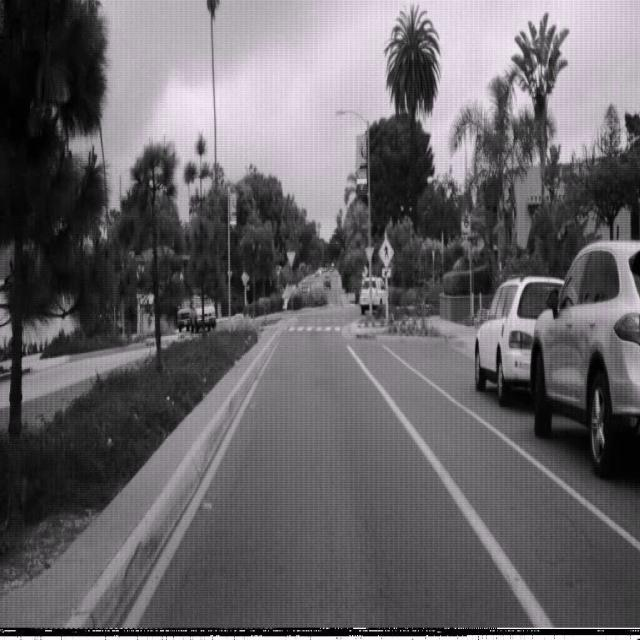pedestrianCrossing: (378, 236, 394, 268)
yield: (364, 244, 374, 264), (286, 250, 296, 267)
